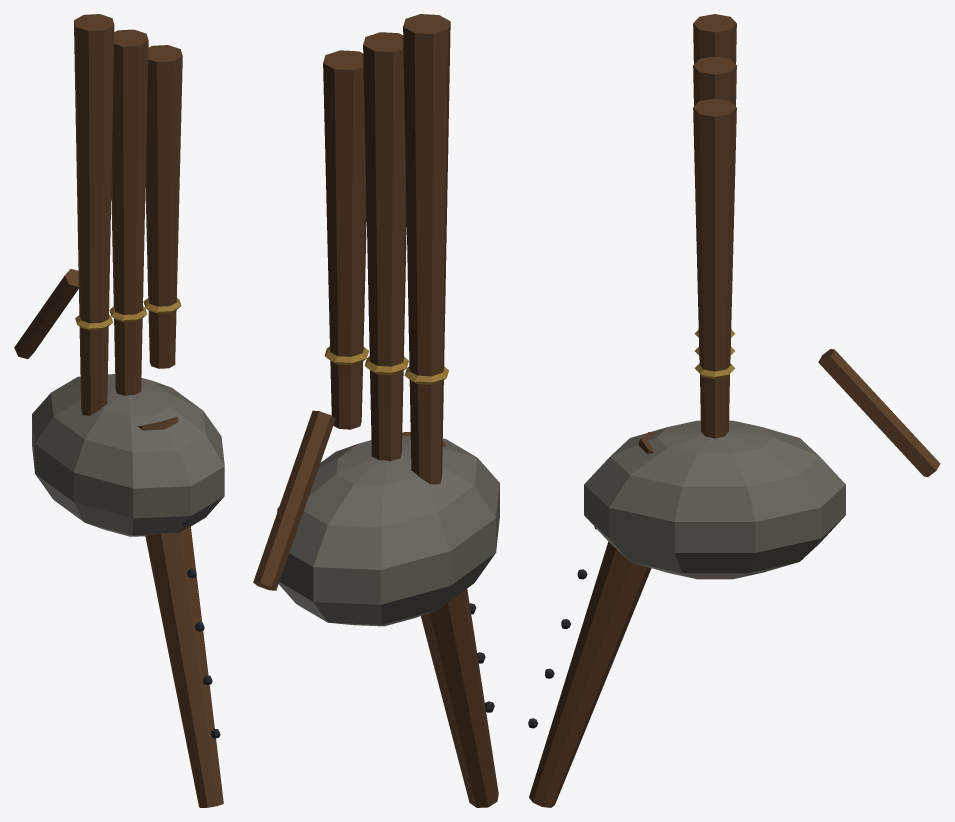
Rendered from bandfill.glb.
3 views of the same model, side by side, from view 1: azimuth 30°, elevation 25°; view 2: azimuth 150°, elevation 25°; view 3: azimuth 270°, elevation 25° (orthographic). The views are drawn at different scales.
Visible parts, largest first — view 1: m; view 2: m; view 3: m.
Part boxes in pixels (x1,y1,x2,y2): m: [14, 14, 224, 807]; m: [253, 14, 499, 807]; m: [528, 14, 940, 807].
Bounding box in the file's own units: 0.1054 × 0.5 × 0.2443.
